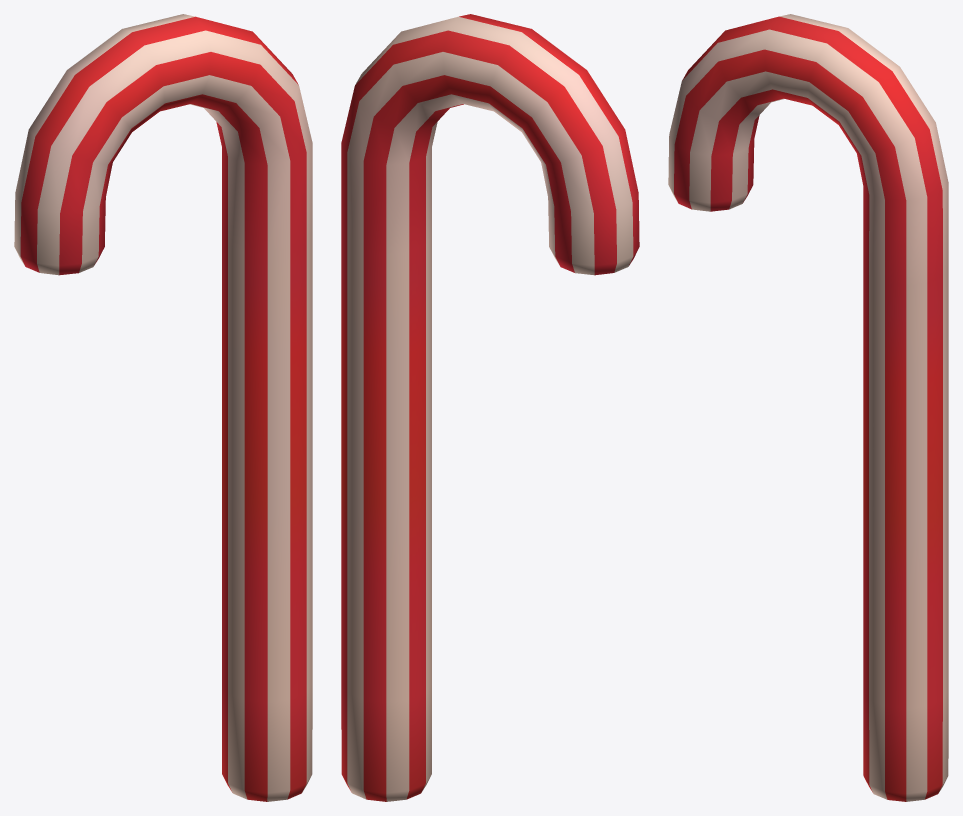
File: candy_hard_30.fbx
3 views of the same model, side by side, from view 1: azimuth 30°, elevation 25°; view 2: azimuth 150°, elevation 25°; view 3: azimuth 330°, elevation 25° (orthographic). The views are drawn at different scales.
Parts seen in each view (by area): view 1: c_h_30; view 2: c_h_30; view 3: c_h_30.
Part boxes in pixels (box(x1,y1,x2,y2)): c_h_30: box(14, 14, 312, 801); c_h_30: box(341, 14, 639, 801); c_h_30: box(668, 14, 948, 801).
Bounding box in the file's own units: 154 × 407 × 42.47.
